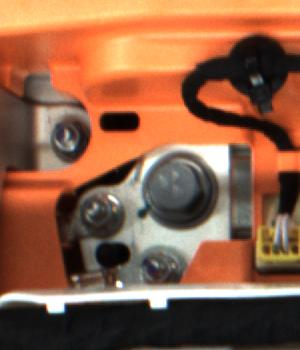nut_b: (136, 141, 229, 231)
screw_s: (81, 192, 115, 234), (48, 121, 83, 157), (141, 254, 176, 289)
